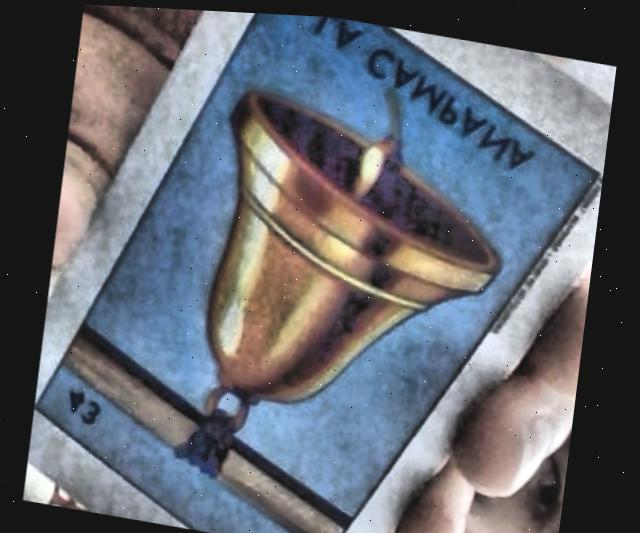La Campana: (36, 10, 598, 533)
